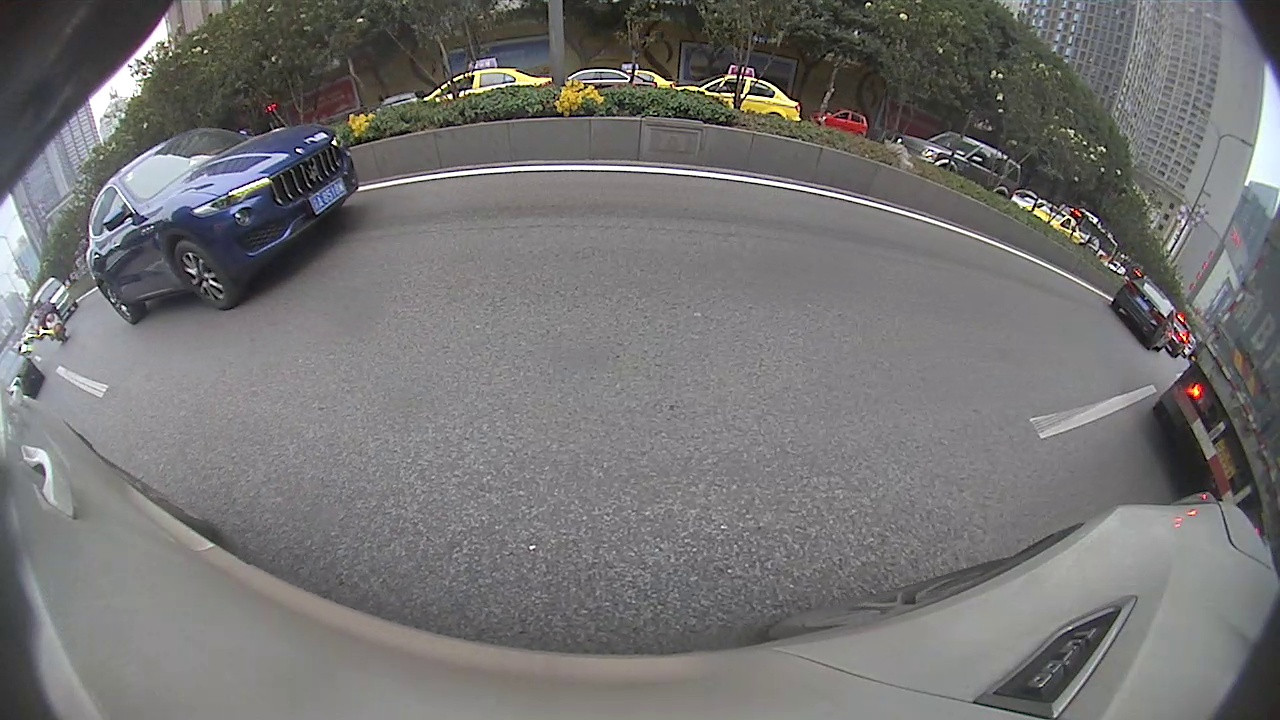car: (101, 175, 424, 376), (665, 149, 738, 200), (507, 160, 574, 200)
front: (389, 212, 422, 255)
person: (818, 150, 831, 187), (779, 151, 787, 180)
rear: (198, 280, 269, 355)
